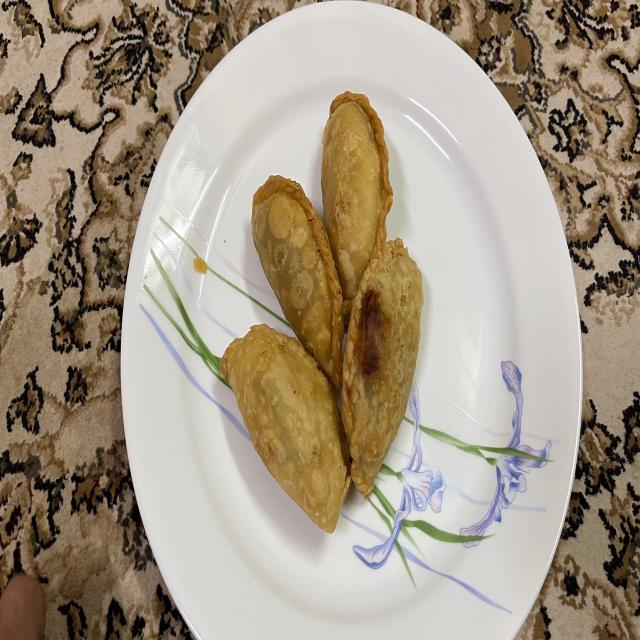karipap: (220, 324, 350, 533), (341, 238, 424, 498), (251, 176, 344, 389), (321, 91, 392, 324)
